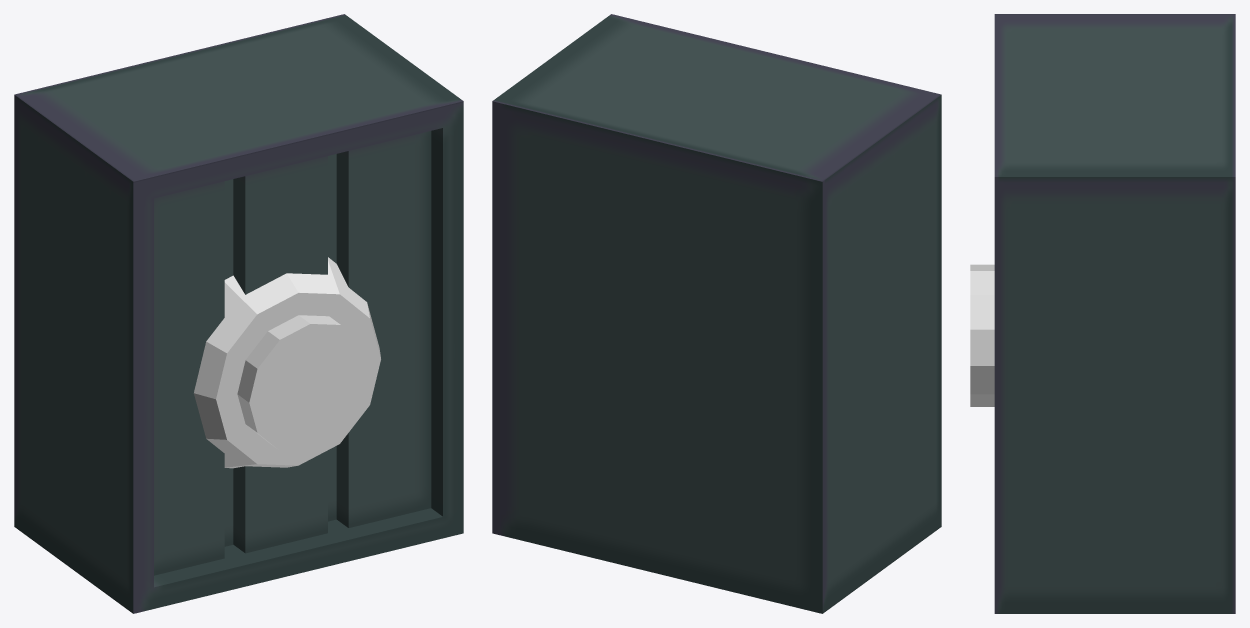
File: Button.glb
3 renders of one model, left to right at view 1: azimuth 30°, elevation 25°; view 2: azimuth 150°, elevation 25°; view 3: azimuth 270°, elevation 25°, orthographic.
Visible parts, largest first — view 1: SwitchBox, SwitchButton, Button; view 2: SwitchBox; view 3: SwitchBox, Button.
Part boxes in pixels (box(x1,y1,x2,y2)): SwitchBox: box(14, 14, 463, 613); SwitchButton: box(194, 257, 380, 468); Button: box(237, 315, 371, 451); SwitchBox: box(492, 14, 941, 613); SwitchBox: box(994, 14, 1235, 613); Button: box(970, 264, 994, 406).
Bounding box in the file's own units: 1.6 × 2 × 1.1.
Materials: 1 (1 with a texture image).
